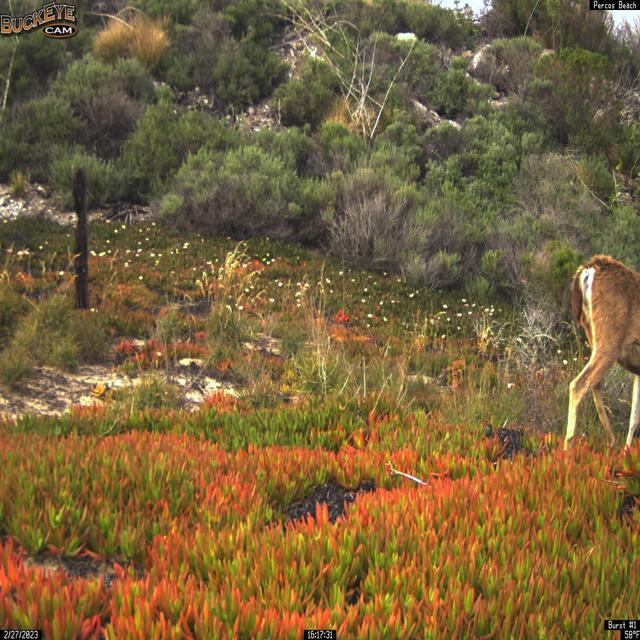deer: (564, 254, 640, 458)
